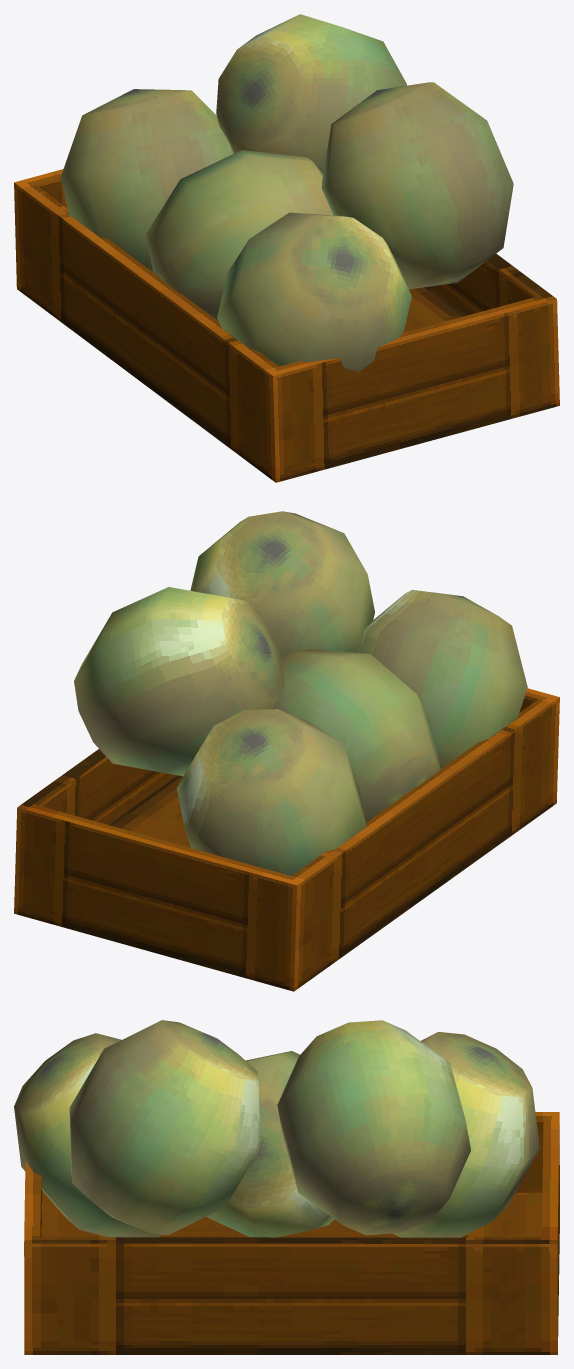
The model's file is INST_HTOWN_BOXOFMELONS.fbx.
The picture shows the model from 3 angles, top to bottom: view 1: azimuth 30°, elevation 25°; view 2: azimuth 150°, elevation 25°; view 3: azimuth 270°, elevation 25°; orthographic projection. The views are drawn at different scales.
Visible parts, largest first — view 1: INST_HTOWN_BOXOFMELONS; view 2: INST_HTOWN_BOXOFMELONS; view 3: INST_HTOWN_BOXOFMELONS.
Part boxes in pixels (x1=…): INST_HTOWN_BOXOFMELONS: x1=14, y1=14, x2=559, y2=482; INST_HTOWN_BOXOFMELONS: x1=14, y1=511, x2=559, y2=991; INST_HTOWN_BOXOFMELONS: x1=14, y1=1020, x2=559, y2=1354.
Size of the model in its own units: 4470 by 4110 by 6832.
2 materials, 2 textured.
